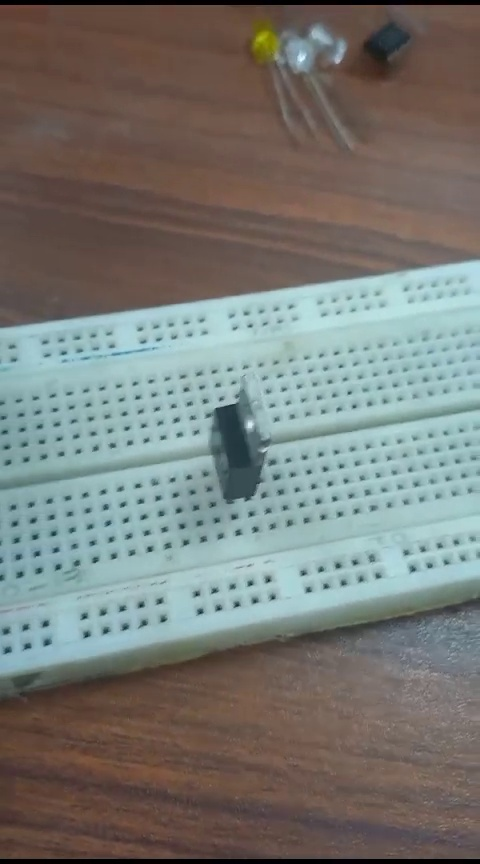voltage regulator: (196, 372, 274, 528)
